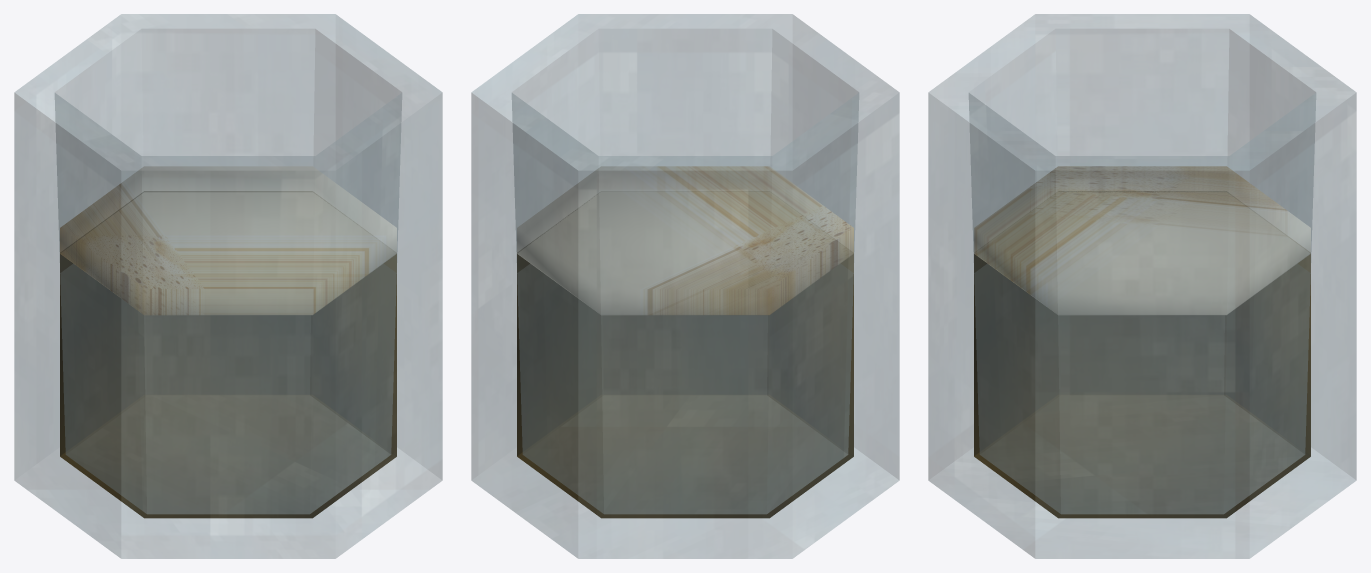
Rendered from espresso.fbx.
The picture shows the model from 3 angles, left to right: view 1: azimuth 30°, elevation 25°; view 2: azimuth 150°, elevation 25°; view 3: azimuth 270°, elevation 25°; orthographic projection.
Parts seen in each view (by area): view 1: Cylinder_0, Cylinder_0.001; view 2: Cylinder_0, Cylinder_0.001; view 3: Cylinder_0, Cylinder_0.001.
Boxes of the visible parts, box(x1,y1,x2,y2) form: Cylinder_0: box(14, 14, 442, 558); Cylinder_0.001: box(60, 166, 396, 518); Cylinder_0: box(471, 14, 899, 558); Cylinder_0.001: box(517, 166, 853, 518); Cylinder_0: box(928, 14, 1356, 558); Cylinder_0.001: box(974, 166, 1310, 518).
Size of the model in its own units: 13182 by 15221 by 15221.
Materials: 3 (2 with a texture image).
